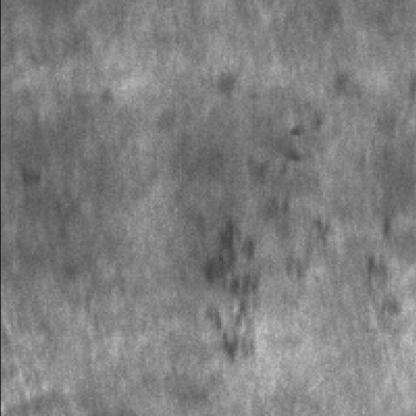rolled-in_scale: (206, 152, 331, 360)
